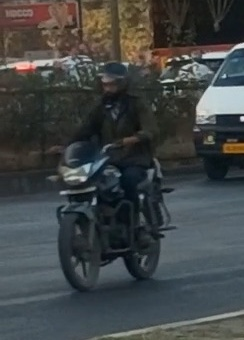BikeWithRider: (41, 58, 182, 296)
Helmet: (93, 60, 133, 101)
